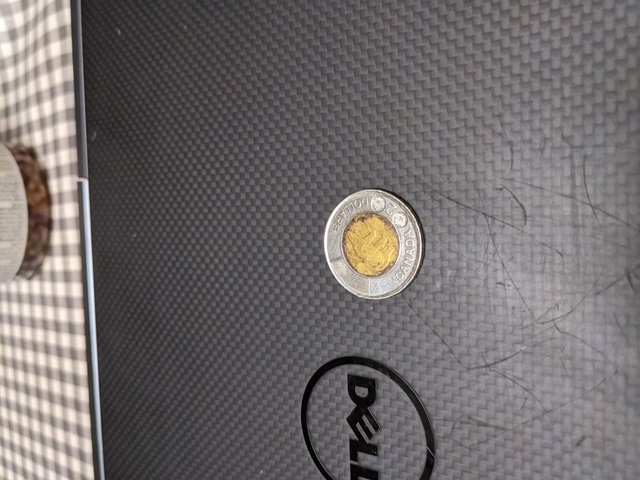twonie: (321, 186, 432, 308)
